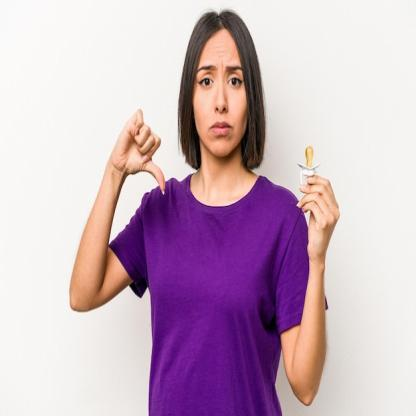thumb_down: (111, 106, 168, 198)
